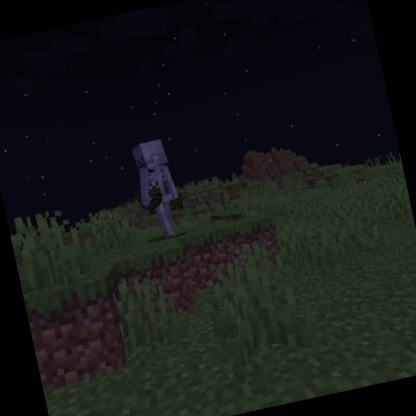skeleton: (121, 134, 190, 245)
